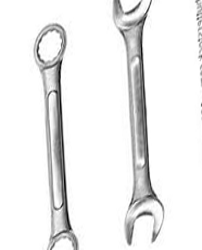Wrench: (92, 1, 176, 244)
